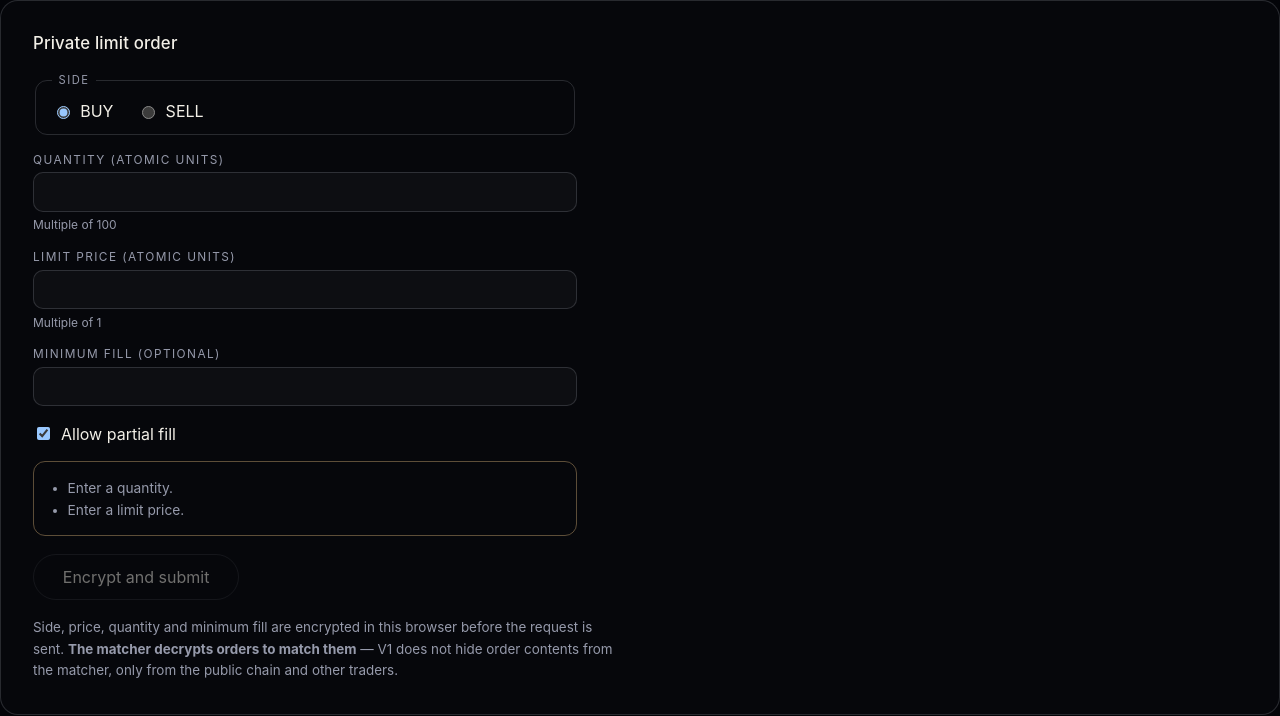
Test: OrderTicket › tells the user to open Lace from the toolbar while the order signature waits
The image size is (1280, 716).
Type "100" into the field labelled "Quantity (atomic units) Multiple of 100". click: (305, 192)
box: x1=33 y1=172 x2=577 y2=212
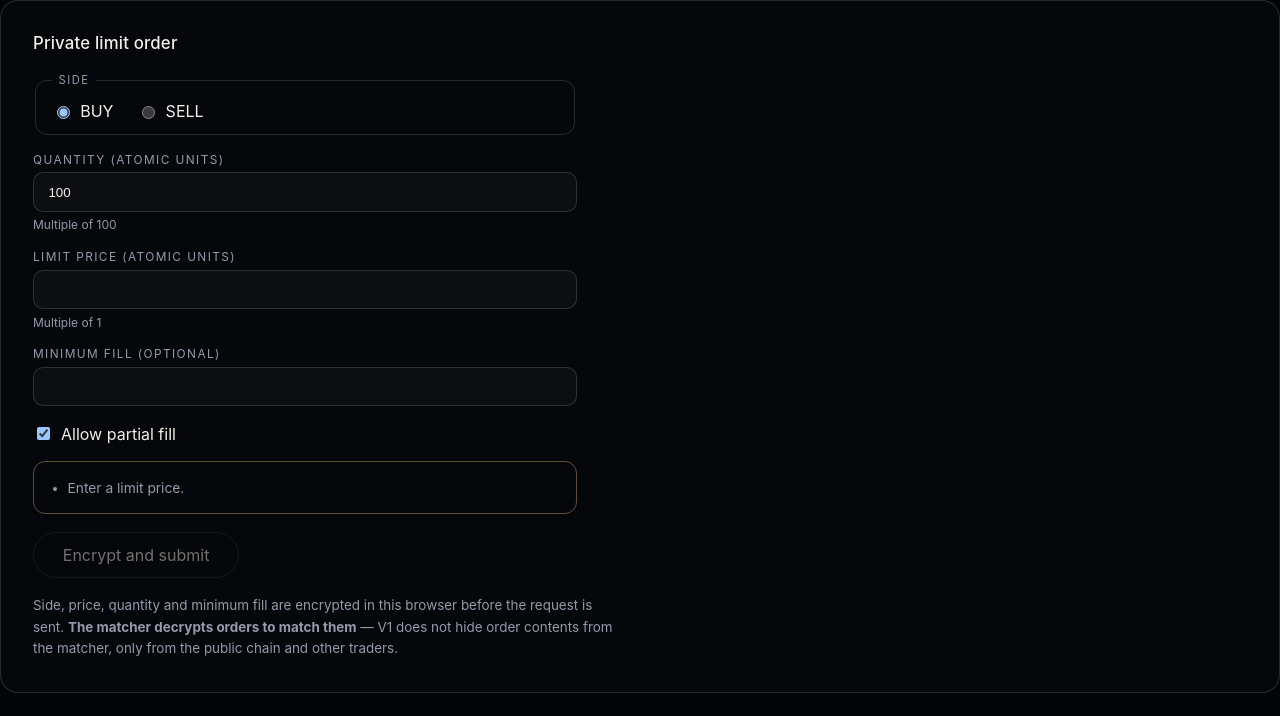
Type "1" into the field labelled "Limit price (atomic units) Multiple of 1". click: (305, 289)
box: x1=33 y1=270 x2=577 y2=309
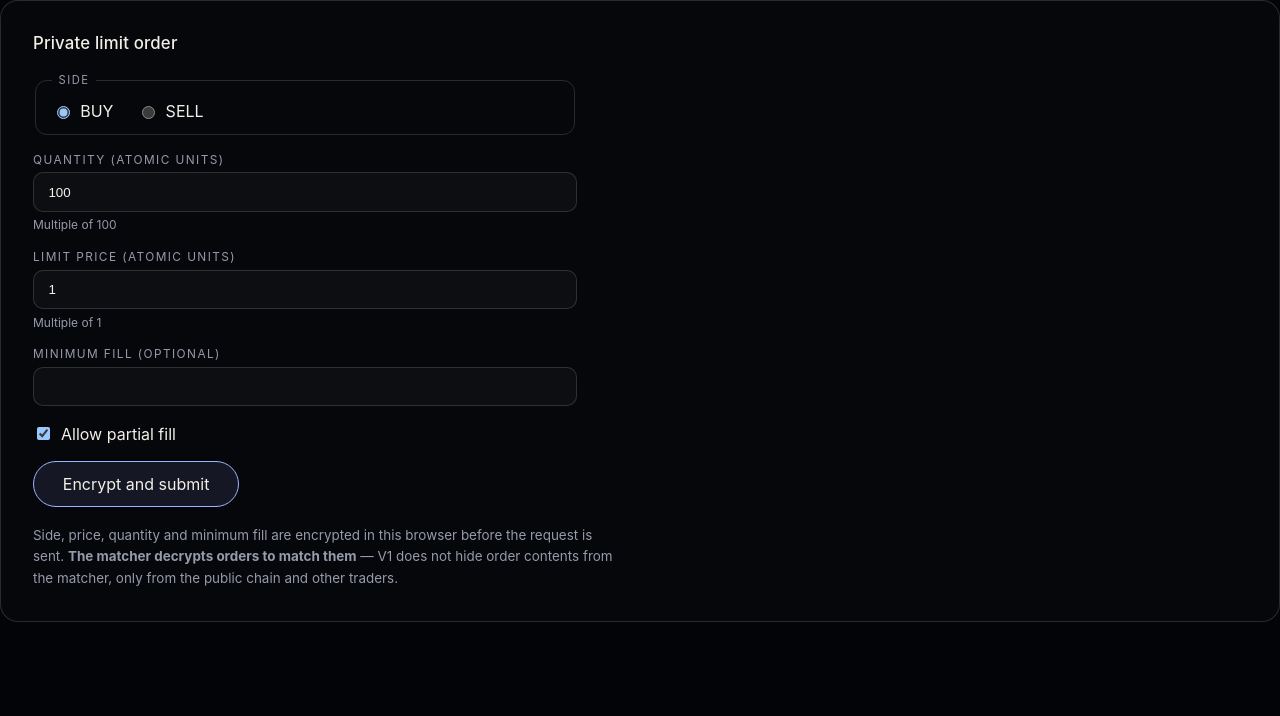
Click the button "Encrypt and submit". click: (136, 484)
box: x1=33 y1=461 x2=239 y2=507
Wait 3500 ms
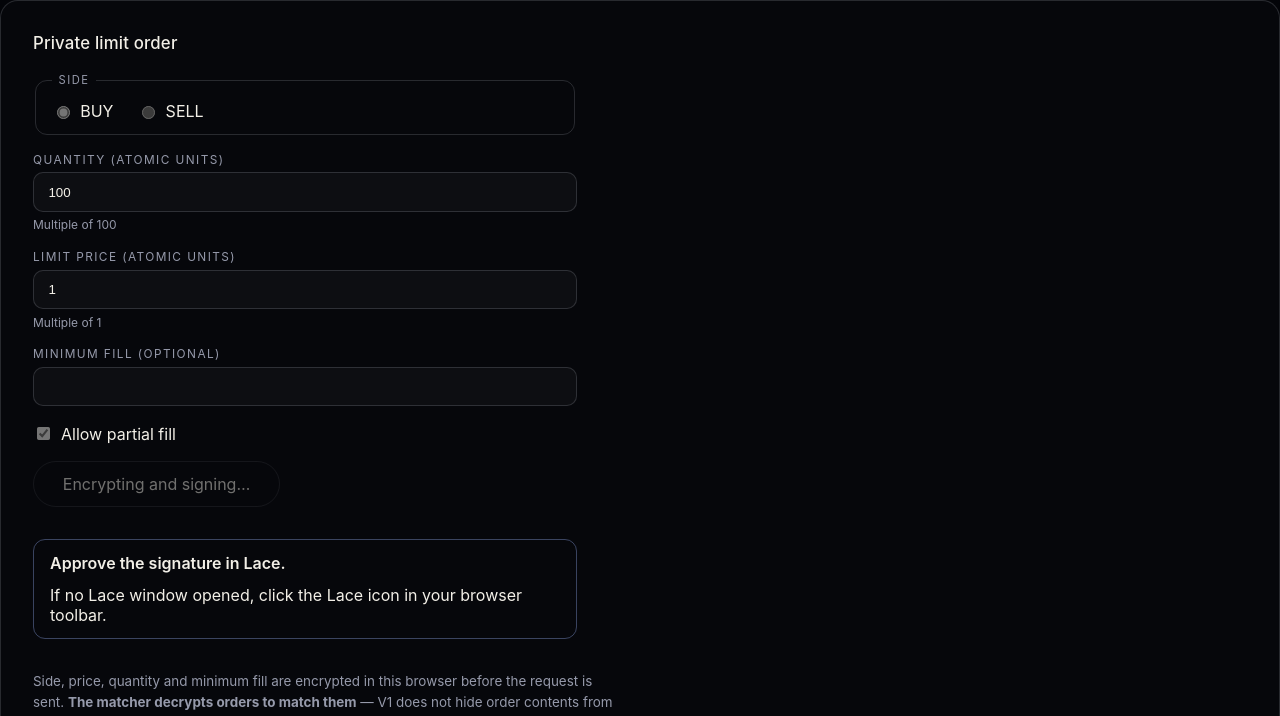
Check: the button "Encrypting and signing…" is shown, box x1=33 y1=461 x2=280 y2=507
Check: the text "click the Lace icon in your browser toolbar" is shown, box x1=50 y1=585 x2=522 y2=625
